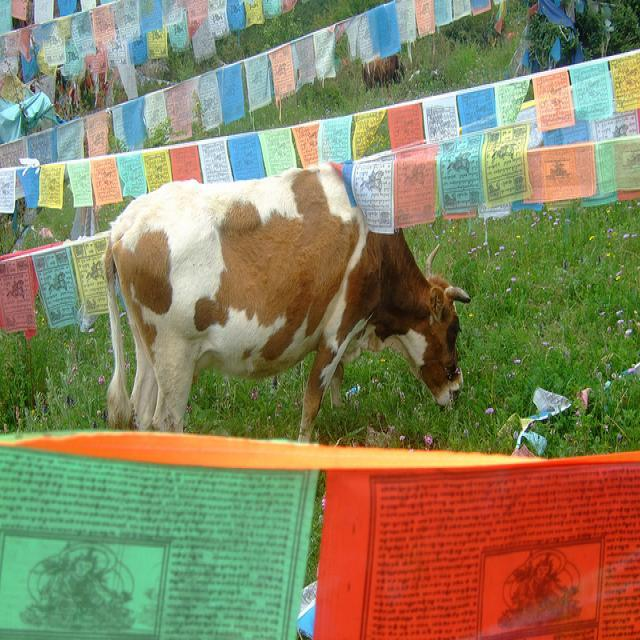cow: (92, 176, 466, 440), (361, 52, 403, 89)
